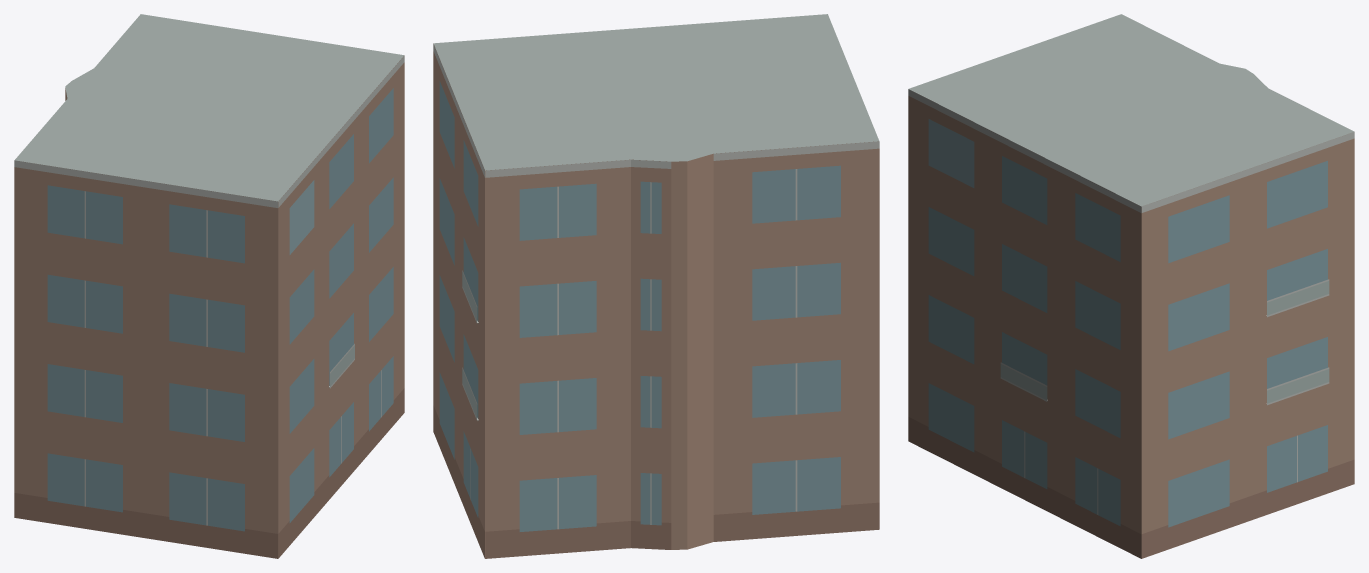
The model's file is survey-upis-32631959.glb.
3 renders of one model, left to right at view 1: azimuth 30°, elevation 25°; view 2: azimuth 150°, elevation 25°; view 3: azimuth 270°, elevation 25°, orthographic. The views are drawn at different scales.
Visible parts, largest first — view 1: survey-upis-32631959.tmp; view 2: survey-upis-32631959.tmp; view 3: survey-upis-32631959.tmp.
Part boxes in pixels (bbox=[...]): survey-upis-32631959.tmp: bbox=[14, 14, 404, 558]; survey-upis-32631959.tmp: bbox=[433, 14, 879, 558]; survey-upis-32631959.tmp: bbox=[908, 14, 1354, 558].
Bounding box in the file's own units: 15.13 × 12.9 × 14.82.
